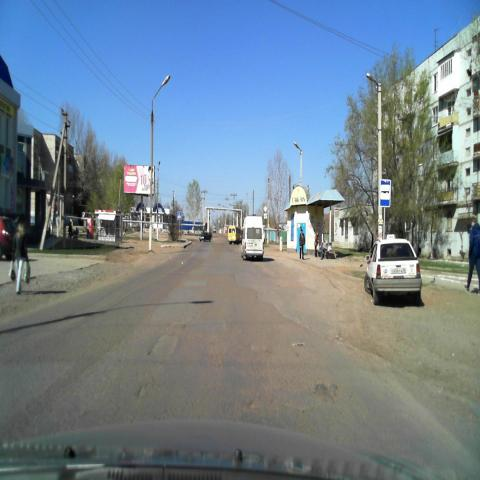5_16: (380, 180, 390, 208)
